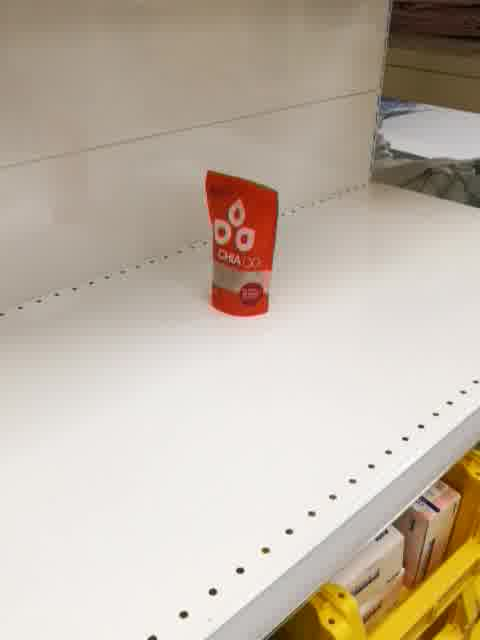whitechia: (203, 164, 281, 320)
